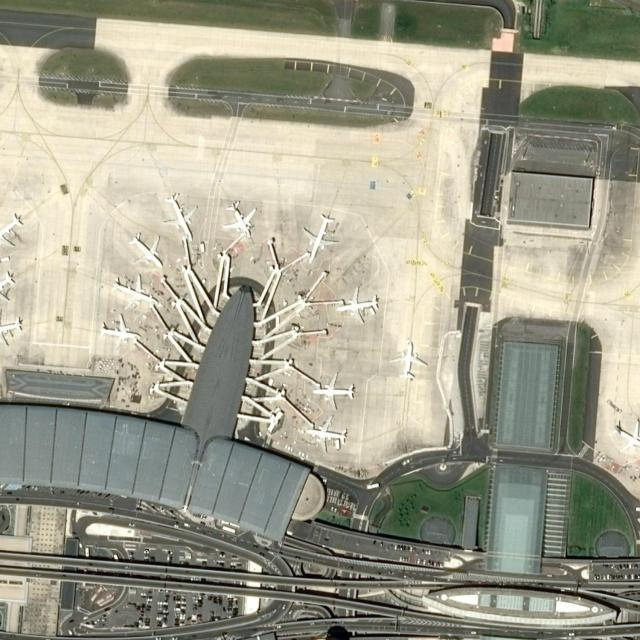Aircraft: (303, 211, 343, 263), (163, 188, 201, 240), (337, 283, 382, 325), (312, 374, 358, 412), (112, 274, 160, 310), (387, 339, 428, 380), (305, 418, 350, 453), (128, 229, 167, 269), (223, 198, 261, 238), (100, 315, 144, 349), (608, 415, 640, 458), (0, 210, 25, 252), (1, 308, 25, 348), (0, 267, 17, 303)
